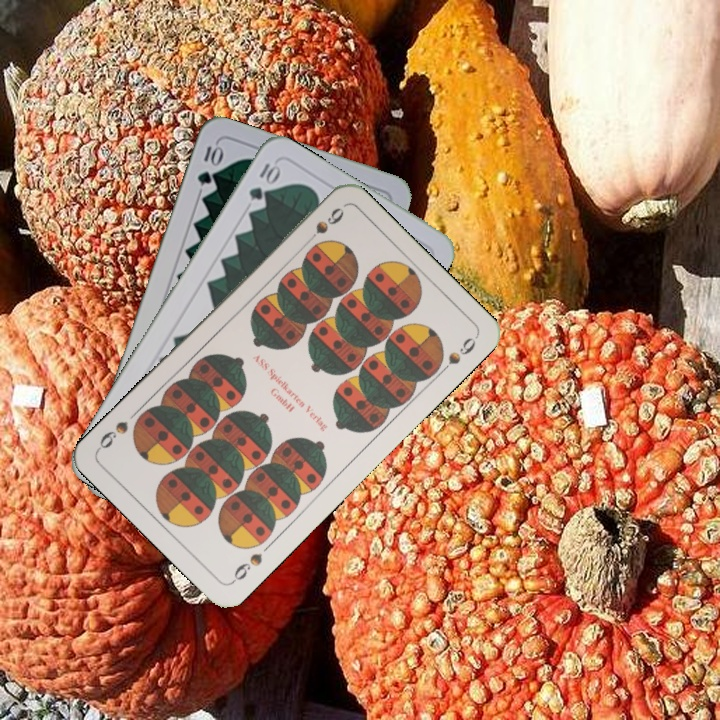G10: (244, 159, 282, 203), (193, 140, 224, 189)
S9: (300, 203, 347, 249), (227, 549, 265, 586)
